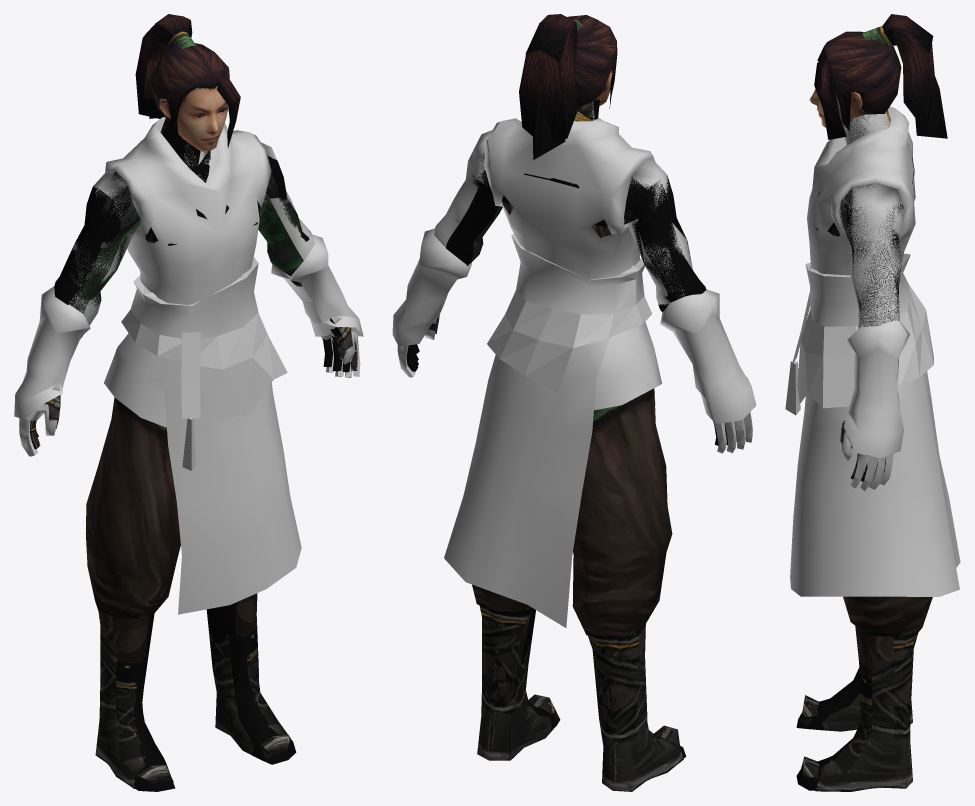
File: chinese_man.FBX
3 renders of one model, left to right at view 1: azimuth 30°, elevation 25°; view 2: azimuth 150°, elevation 25°; view 3: azimuth 270°, elevation 25°, orthographic. The views are drawn at different scales.
Parts seen in each view (by area): view 1: cadnav.com, Object02; view 2: cadnav.com, Object02; view 3: cadnav.com, Object02.
Part boxes in pixels (x1,y1,x2,y2): cadnav.com: [14, 14, 363, 788]; Object02: [30, 116, 357, 791]; cadnav.com: [392, 14, 756, 791]; Object02: [406, 99, 737, 780]; cadnav.com: [785, 14, 960, 791]; Object02: [796, 110, 914, 790].
Bounding box in the file's own units: 36.45 × 74.32 × 16.03.
